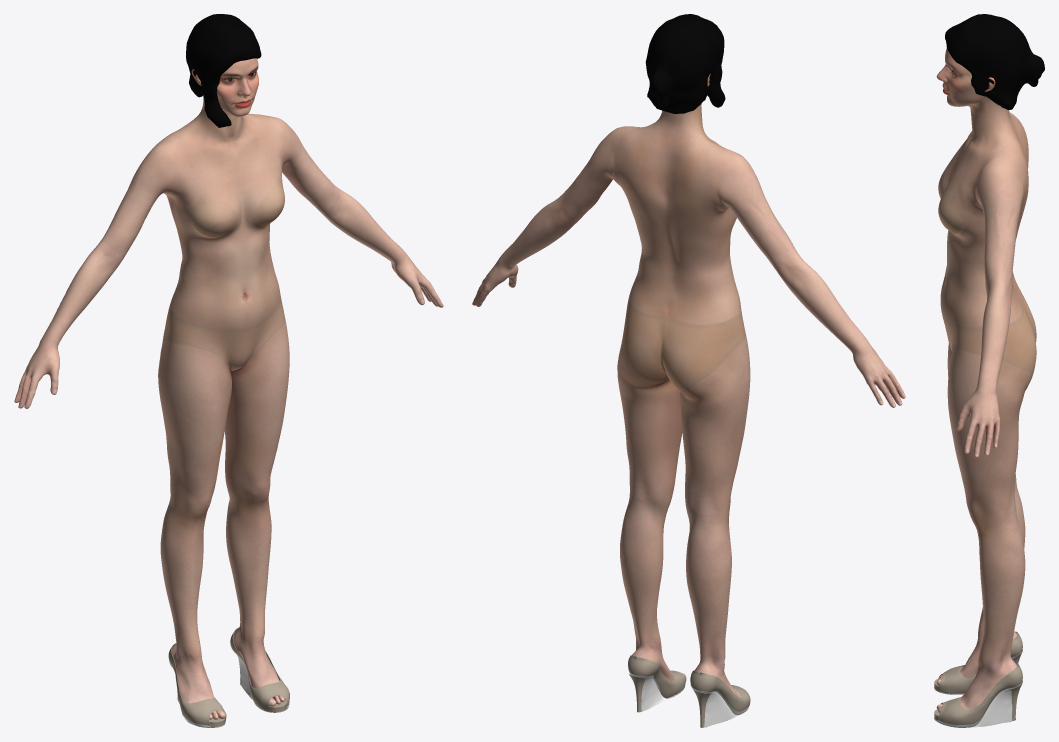
File: chloe.obj
3 renders of one model, left to right at view 1: azimuth 30°, elevation 25°; view 2: azimuth 150°, elevation 25°; view 3: azimuth 270°, elevation 25°, orthographic.
Size of the model in its own units: 1.21 by 1.88 by 0.2743.
12 materials, 9 textured.
